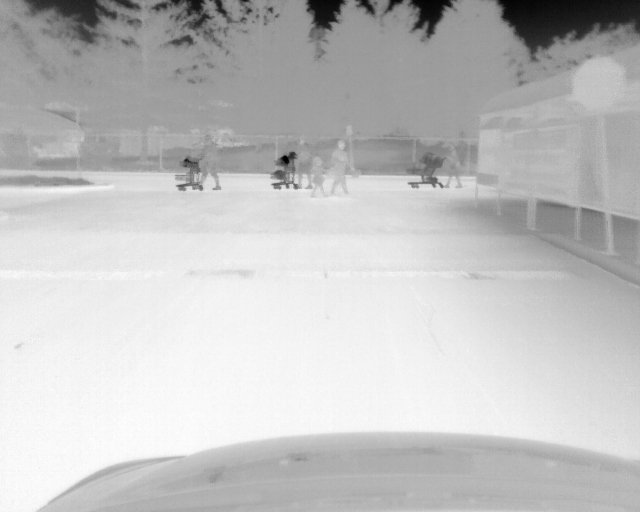people: (193, 135, 223, 192), (327, 139, 355, 197), (441, 141, 463, 190), (292, 137, 312, 190), (308, 155, 327, 197)
